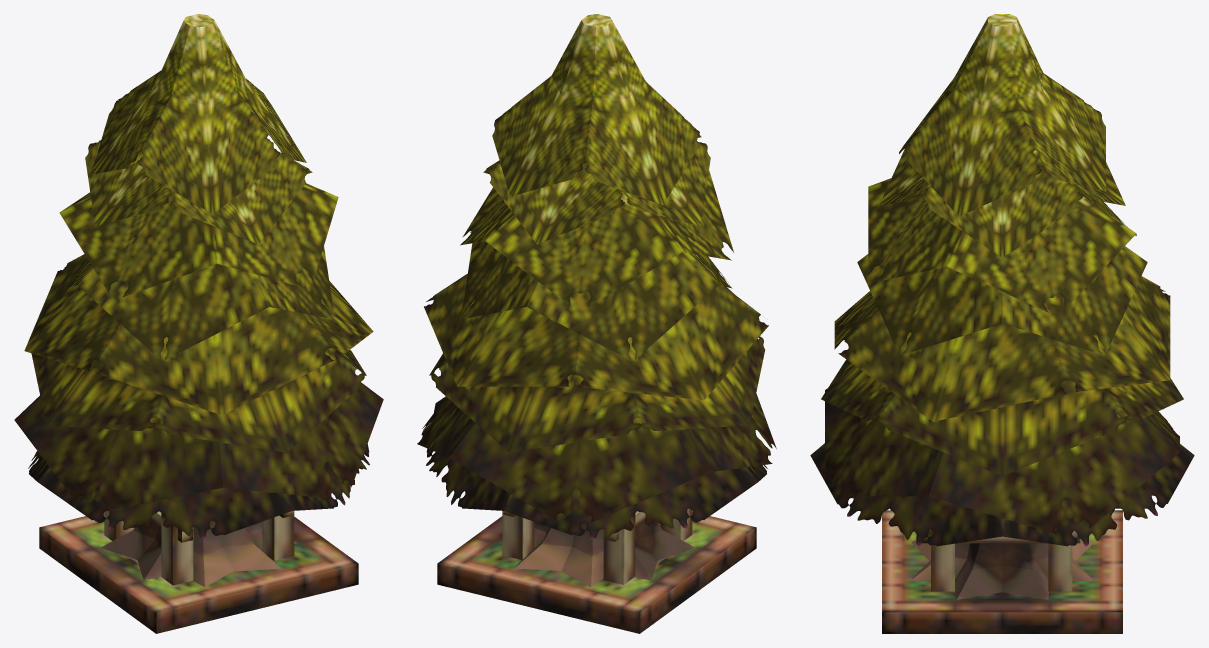
File: Poly_SF_Outside_B_Tree_Avenue_01.obj
3 views of the same model, side by side, from view 1: azimuth 30°, elevation 25°; view 2: azimuth 150°, elevation 25°; view 3: azimuth 270°, elevation 25° (orthographic). The views are drawn at different scales.
Parts seen in each view (by area): view 1: Cube.005, Cube.002, Cube.004, Cube.007, Cube.003, Cube.006, Cube.001, Cube.008; view 2: Cube.005, Cube.002, Cube.004, Cube.007, Cube.003, Cube.006, Cube.001, Cube.008; view 3: Cube.005, Cube.002, Cube.004, Cube.007, Cube.003, Cube.006, Cube.001, Cube.008.
Boxes of the visible parts, left/top/right/bottom form: Cube.005: left=24, top=254, right=373, bottom=452; Cube.002: left=14, top=382, right=383, bottom=539; Cube.004: left=59, top=183, right=338, bottom=359; Cube.007: left=91, top=14, right=306, bottom=214; Cube.003: left=39, top=512, right=358, bottom=633; Cube.006: left=85, top=140, right=312, bottom=244; Cube.001: left=100, top=520, right=297, bottom=586; Cube.008: left=104, top=511, right=294, bottom=585; Cube.005: left=424, top=274, right=768, bottom=452; Cube.002: left=417, top=393, right=776, bottom=539; Cube.004: left=460, top=148, right=733, bottom=359; Cube.007: left=492, top=14, right=701, bottom=205; Cube.003: left=437, top=512, right=756, bottom=633; Cube.006: left=483, top=141, right=710, bottom=244; Cube.001: left=498, top=520, right=695, bottom=586; Cube.008: left=502, top=508, right=692, bottom=584; Cube.005: left=821, top=276, right=1183, bottom=475; Cube.002: left=810, top=388, right=1194, bottom=546; Cube.004: left=857, top=178, right=1147, bottom=354; Cube.007: left=899, top=14, right=1105, bottom=216; Cube.003: left=882, top=510, right=1122, bottom=633; Cube.006: left=879, top=132, right=1125, bottom=257; Cube.001: left=911, top=539, right=1093, bottom=599; Cube.008: left=922, top=529, right=1080, bottom=591.
Bounding box in the file's own units: 1.6 × 2.58 × 1.6.
1 material, 1 textured.
